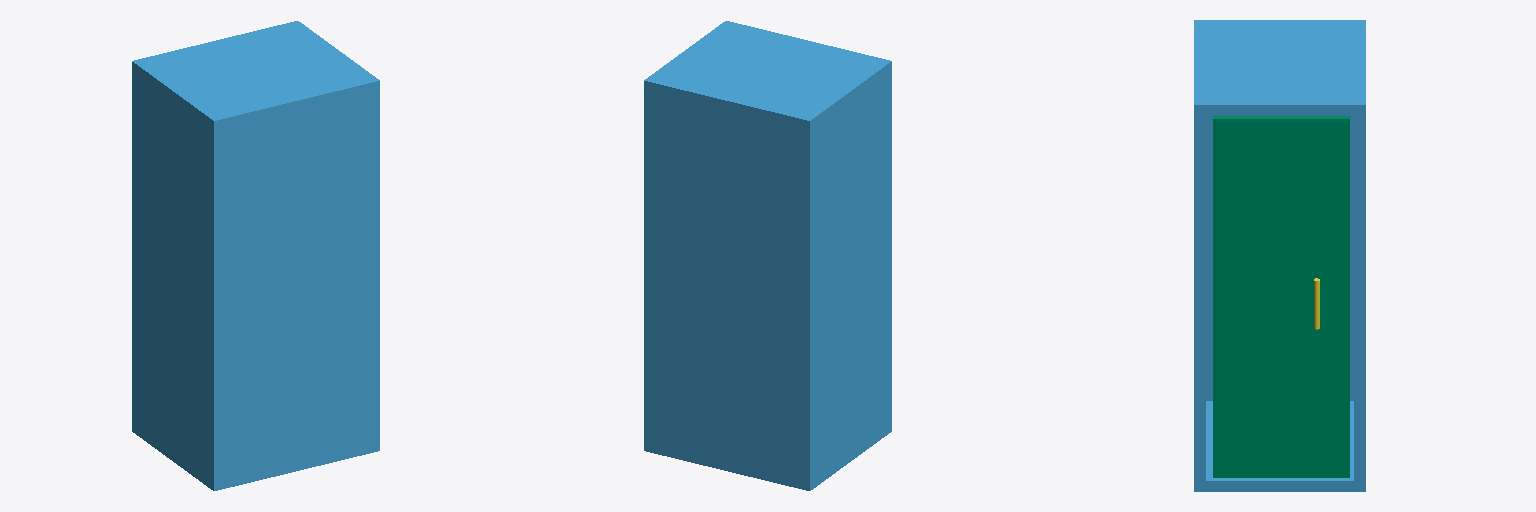
URDF robot description (my_cabinet):
<?xml version="1.0" ?>
<robot name="my_cabinet">
	<link name="world"/>
	<joint name="virtual_joint" type="fixed">
		<parent link="world"/>
		<child link="base_cabinet_link"/>
		<origin xyz="0.0 0.0 0.0" rpy="0.0 0.0 0.0"/>
	</joint>
	<link name="base_cabinet_link">
		<visual>
			<origin xyz="0.0 -0.0025 -0.31044205623024546" rpy="0.0 0.0 0.0"/>
			<geometry>
				<box size="0.3 0.2567135884363253 0.018"/>
			</geometry>
		</visual>
		<collision name="base_cabinet_link_collision_0">
			<origin xyz="0.0 -0.0025 -0.31044205623024546" rpy="0.0 0.0 0.0"/>
			<geometry>
				<box size="0.3 0.2567135884363253 0.018"/>
			</geometry>
		</collision>
		<visual>
			<origin xyz="0.0 0.11685679421816265 0.0" rpy="0.0 0.0 0.0"/>
			<geometry>
				<box size="0.3 0.018 0.6388841124604909"/>
			</geometry>
		</visual>
		<collision name="base_cabinet_link_collision_1">
			<origin xyz="0.0 0.11685679421816265 0.0" rpy="0.0 0.0 0.0"/>
			<geometry>
				<box size="0.3 0.018 0.6388841124604909"/>
			</geometry>
		</collision>
		<visual>
			<origin xyz="0.0 -0.12185679421816265 0.0" rpy="0.0 0.0 0.0"/>
			<geometry>
				<box size="0.3 0.018 0.6388841124604909"/>
			</geometry>
		</visual>
		<collision name="base_cabinet_link_collision_2">
			<origin xyz="0.0 -0.12185679421816265 0.0" rpy="0.0 0.0 0.0"/>
			<geometry>
				<box size="0.3 0.018 0.6388841124604909"/>
			</geometry>
		</collision>
		<visual>
			<origin xyz="0.0 -0.0025 0.31044205623024546" rpy="0.0 0.0 0.0"/>
			<geometry>
				<box size="0.3 0.2567135884363253 0.018"/>
			</geometry>
		</visual>
		<collision name="base_cabinet_link_collision_3">
			<origin xyz="0.0 -0.0025 0.31044205623024546" rpy="0.0 0.0 0.0"/>
			<geometry>
				<box size="0.3 0.2567135884363253 0.018"/>
			</geometry>
		</collision>
		<visual>
			<origin xyz="-0.141 -0.0025 0.0" rpy="0.0 0.0 0.0"/>
			<geometry>
				<box size="0.018 0.2567135884363253 0.6388841124604909"/>
			</geometry>
		</visual>
		<collision name="base_cabinet_link_collision_4">
			<origin xyz="-0.141 -0.0025 0.0" rpy="0.0 0.0 0.0"/>
			<geometry>
				<box size="0.018 0.2567135884363253 0.6388841124604909"/>
			</geometry>
		</collision>
		<inertial>
			<mass value="0.200000"/>
			<inertia ixx="0.007901" ixy="0.0" ixz="0.0" iyy="0.008303" iyz="0.0" izz="0.002598"/>
		</inertial>
	</link>
	<link name="door_link">
		<visual>
			<origin xyz="0.0 -0.10285679421816266 0.0"/>
			<geometry>
				<box size="0.018 0.2057135884363253 0.5928841124604909"/>
			</geometry>
		</visual>
		<collision name="door_link_collision">
			<origin xyz="0.0 -0.10285679421816266 0.0"/>
			<geometry>
				<box size="0.018 0.2057135884363253 0.5928841124604909"/>
			</geometry>
		</collision>
		<inertial>
			<mass value="0.200000"/>
			<inertia ixx="0.006564" ixy="0.0" ixz="0.0" iyy="0.005864" iyz="0.0" izz="0.000711"/>
		</inertial>
	</link>
	<joint name="door_joint" type="revolute">
		<origin xyz="0.141 -0.10285679421816266 0.0" rpy="0.000000 -0.000000 3.141593"/>
		<axis xyz="0 0 1"/>
		<parent link="base_cabinet_link"/>
		<child link="door_link"/>
		<limit effort="50" lower="-1.658062789394613" upper="0" velocity="10"/>
		<dynamics friction="3.5" damping="3.5"/>
	</joint>
	<link name="handle_link">
		<visual>
			<origin xyz="0.0 0.0 0.0" rpy="0.0 0.0 0.0"/>
			<geometry>
				<cylinder length="0.08" radius="0.005"/>
			</geometry>
		</visual>
		<collision name="handle_link_collision_0">
			<origin xyz="0.0 0.0 0.0" rpy="0.0 0.0 0.0"/>
			<geometry>
				<cylinder length="0.08" radius="0.005"/>
			</geometry>
		</collision>
		<visual>
			<origin xyz="-0.01 0.0 0.02" rpy="0.0 1.5707963267948966 0.0"/>
			<geometry>
				<cylinder length="0.02" radius="0.003"/>
			</geometry>
		</visual>
		<collision name="handle_link_collision_1">
			<origin xyz="-0.01 0.0 0.02" rpy="0.0 1.5707963267948966 0.0"/>
			<geometry>
				<cylinder length="0.01" radius="0.003"/>
			</geometry>
		</collision>
		<visual>
			<origin xyz="-0.01 0.0 -0.02" rpy="0.0 1.5707963267948966 0.0"/>
			<geometry>
				<cylinder length="0.02" radius="0.003"/>
			</geometry>
		</visual>
		<collision name="handle_link_collision_2">
			<origin xyz="-0.01 0.0 -0.02" rpy="0.0 1.5707963267948966 0.0"/>
			<geometry>
				<cylinder length="0.02" radius="0.003"/>
			</geometry>
		</collision>
		<inertial>
			<mass value="0.050000"/>
			<inertia ixx="0.000027" ixy="0.0" ixz="0.0" iyy="0.000029" iyz="0.0" izz="0.000003"/>
		</inertial>
	</link>
	<joint name="handle_joint" type="fixed">
		<origin xyz="-0.028999999999999998 -0.15571358843632532 0.0" rpy="0.000000 -0.000000 3.141593"/>
		<parent link="door_link"/>
		<child link="handle_link"/>
	</joint>
	<gazebo reference="base_cabinet_link">
		<sensor name="main_sensor" type="contact">
			<selfCollide>true</selfCollide>
			<alwaysOn>true</alwaysOn>
			<updateRate>5.0</updateRate>
			<material>Gazebo/Red</material>
			<contact>
				<collision>base_cabinet_link_collision_0_collision</collision>
				<collision>base_cabinet_link_collision_1_collision</collision>
				<collision>base_cabinet_link_collision_2_collision</collision>
				<collision>base_cabinet_link_collision_3_collision</collision>
				<collision>base_cabinet_link_collision_4_collision</collision>
			</contact>
			<plugin name="gazebo_ros_bumper_controller" filename="libgazebo_ros_bumper.so">
				<bumperTopicName>/contact</bumperTopicName>
				<frameName>world</frameName>
			</plugin>
		</sensor>
	</gazebo>
	<gazebo reference="door_link">
		<sensor name="main_sensor" type="contact">
			<selfCollide>true</selfCollide>
			<alwaysOn>true</alwaysOn>
			<updateRate>5.0</updateRate>
			<material>Gazebo/Red</material>
			<contact>
				<collision>door_link_collision_collision</collision>
			</contact>
			<plugin name="gazebo_ros_bumper_controller" filename="libgazebo_ros_bumper.so">
				<bumperTopicName>/contact_door</bumperTopicName>
				<frameName>contact_door</frameName>
			</plugin>
		</sensor>
	</gazebo>
	<gazebo reference="door_link">
		<mu>3.0</mu>
		<mu2>3.0</mu2>
		<kp>10000000</kp>
		<kd>100</kd>
	</gazebo>
</robot>

--- What the picture shows (computed from the rendered views, not written in the file) ---
The picture shows the robot from 3 angles, left to right: view 1: azimuth 30°, elevation 25°; view 2: azimuth 150°, elevation 25°; view 3: azimuth 270°, elevation 25°; orthographic projection.
Model my_cabinet with 4 links and 3 joints (1 revolute, 2 fixed), rooted at world, posed every joint at zero.
Links seen in each view (by area): view 1: base_cabinet_link; view 2: base_cabinet_link; view 3: door_link, base_cabinet_link.
Boxes of the visible links, <box> form: base_cabinet_link: <box>132,21,379,490</box>; base_cabinet_link: <box>644,21,891,490</box>; door_link: <box>1213,116,1349,477</box>; base_cabinet_link: <box>1194,20,1365,491</box>.
Size in the robot's own frame: 0.325 by 0.2567 by 0.6389 metres.
Geometry: primitives only (box / cylinder / sphere), no mesh files.
